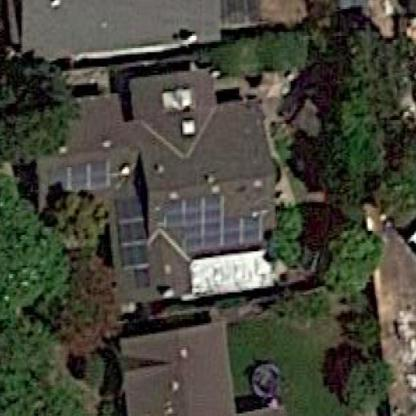solar_panel: (168, 193, 271, 257), (112, 188, 158, 290), (50, 155, 119, 195)
